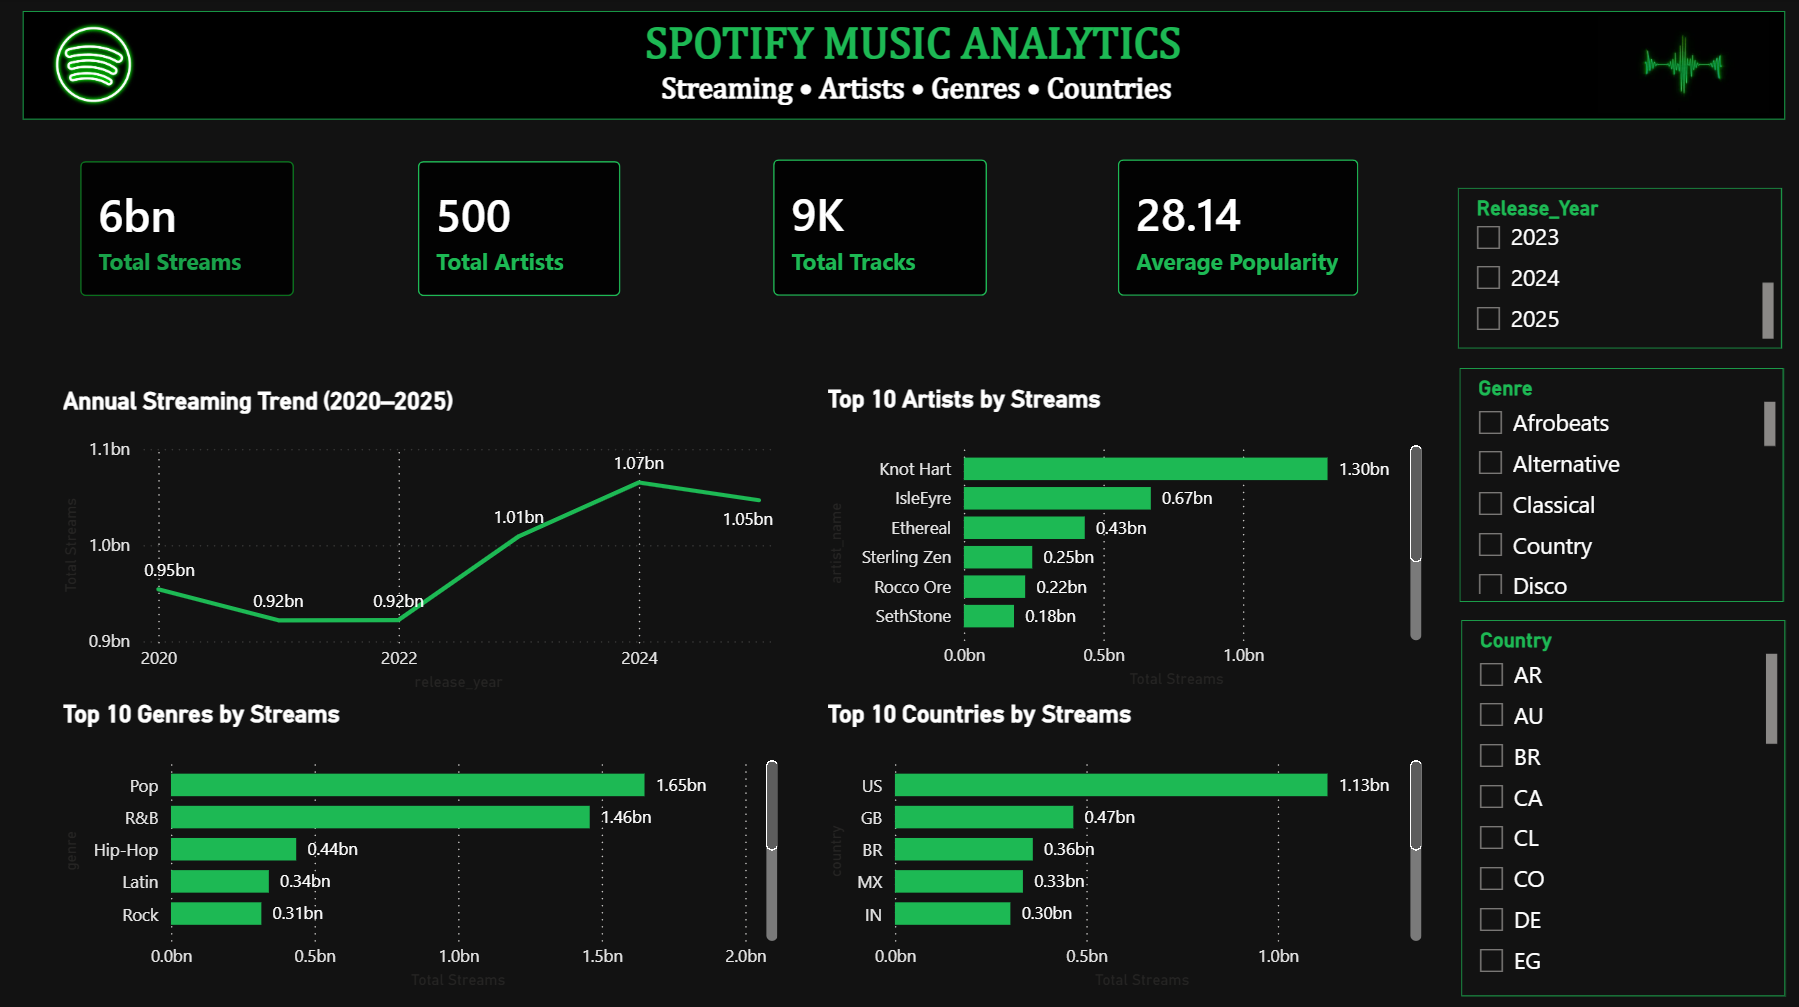

Layout of this report page (visuals, bound fields, positions):
{"tool":"powerbi","page":{"name":"Page 1","canvas":[1280,720],"ordinal":0},"visuals":[{"type":"cardVisual","fields":{"Data":["Spotify_Data.Total Streams"]},"box":[39.3,98.9,186.2,130.9],"z":0},{"type":"cardVisual","fields":{"Data":["Spotify_Data.Total Artists"]},"box":[280,100,178.6,130],"z":1000},{"type":"cardVisual","fields":{"Data":["Spotify_Data.Total Tracks"]},"box":[532.9,98.6,186.6,131.2],"z":2000},{"type":"cardVisual","fields":{"Data":["Spotify_Data.Average Popularity"]},"box":[777.1,98.6,205.7,131.4],"z":3000},{"type":"lineChart","title":"Annual Streaming Trend (2020–2025)","fields":{"Category":["Spotify_Data.release_year"],"Y":["Spotify_Data.Total Streams"]},"box":[39.4,276.9,517.5,220.1],"z":4000},{"type":"clusteredBarChart","title":"Top 10 Artists by Streams","fields":{"Y":["Spotify_Data.Total Streams"],"Category":["Spotify_Data.artist_name"]},"box":[583.2,276.3,431.9,219.6],"z":5000},{"type":"clusteredBarChart","title":"Top 10 Genres by Streams","fields":{"Category":["Spotify_Data.genre"],"Y":["Spotify_Data.Total Streams"]},"box":[39.3,500.3,517.7,209.4],"z":6000},{"type":"clusteredBarChart","title":"Top 10 Countries by Streams","fields":{"Category":["Spotify_Data.country"],"Y":["Spotify_Data.Total Streams"]},"box":[583.2,500.3,431.9,209.4],"z":7000},{"type":"slicer","title":"Release Year","fields":{"Values":["Spotify_Data.release_year"]},"box":[1036,135.6,230.3,114],"z":8000},{"type":"slicer","title":"Genre","fields":{"Values":["Spotify_Data.genre"]},"box":[1037.3,263.7,230.3,166.2],"z":9000},{"type":"slicer","title":"Country","fields":{"Values":["Spotify_Data.country"]},"box":[1038.5,442.8,230.1,267.4],"z":10000},{"type":"textbox","box":[16.2,10,1252.5,77.1],"z":11000},{"type":"image","box":[16.2,13.7,100.7,68.4],"z":12000},{"type":"image","box":[1128.6,14.3,136.8,68.4],"z":13000}]}

Visuals, with their boxes in screenshot pixels (x1, y1, x2, y2), scaled from the page's 1280x720 canvas onto the 1799x1007 screenshot:
cardVisual - Spotify_Data.Total Streams: Rect(55, 138, 317, 321)
cardVisual - Spotify_Data.Total Artists: Rect(394, 140, 645, 322)
cardVisual - Spotify_Data.Total Tracks: Rect(749, 138, 1011, 321)
cardVisual - Spotify_Data.Average Popularity: Rect(1092, 138, 1381, 322)
"Annual Streaming Trend (2020–2025)" lineChart: Rect(55, 387, 783, 695)
"Top 10 Artists by Streams" clusteredBarChart: Rect(820, 386, 1427, 694)
"Top 10 Genres by Streams" clusteredBarChart: Rect(55, 700, 783, 993)
"Top 10 Countries by Streams" clusteredBarChart: Rect(820, 700, 1427, 993)
"Release Year" slicer: Rect(1456, 190, 1780, 349)
"Genre" slicer: Rect(1458, 369, 1782, 601)
"Country" slicer: Rect(1460, 619, 1783, 993)
textbox: Rect(23, 14, 1783, 122)
image: Rect(23, 19, 164, 115)
image: Rect(1586, 20, 1778, 116)
